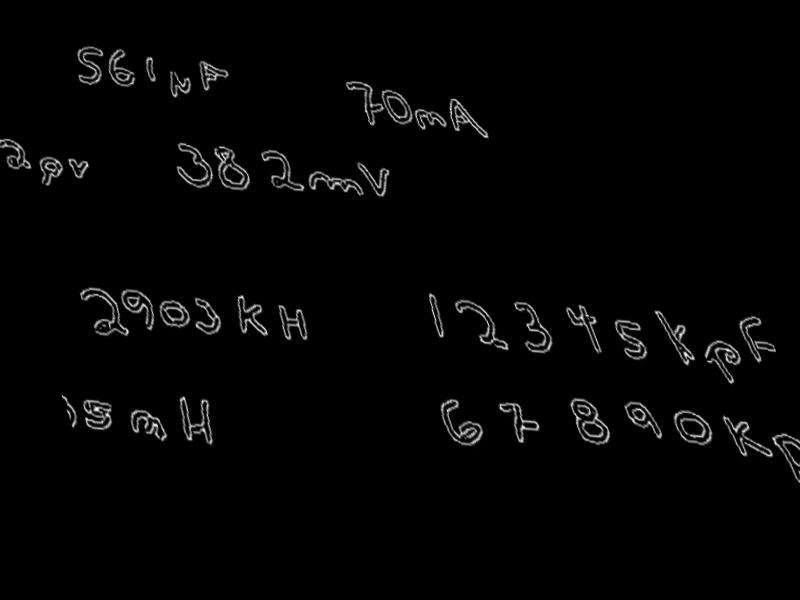0: (665, 406, 719, 447), (150, 294, 198, 331), (377, 87, 419, 128)
1: (420, 290, 454, 341), (137, 54, 163, 86)
2: (68, 282, 139, 345), (450, 297, 511, 354), (255, 146, 310, 194), (0, 134, 39, 173)
3: (162, 137, 225, 195), (506, 296, 561, 359), (182, 294, 234, 340), (60, 391, 90, 437), (167, 482, 168, 482)
4: (560, 301, 613, 356), (0, 130, 5, 174)
5: (63, 42, 117, 88), (609, 315, 657, 363), (73, 395, 123, 434)
6: (432, 396, 490, 450), (97, 45, 143, 90)
7: (494, 397, 550, 448), (339, 77, 392, 128)
8: (561, 394, 619, 450), (204, 141, 259, 194)
9: (112, 283, 166, 333), (619, 396, 669, 445)
A: (441, 96, 492, 141)
F: (732, 312, 781, 367), (190, 56, 238, 96)
H: (169, 393, 225, 448), (269, 302, 316, 345)
V: (354, 160, 402, 201), (63, 155, 98, 181)
k: (649, 306, 702, 366), (719, 412, 779, 463), (227, 291, 275, 338)
m: (300, 165, 367, 198)
n: (121, 405, 174, 445), (408, 106, 451, 135)
p: (694, 334, 756, 390), (766, 430, 800, 490), (30, 152, 74, 189)
u: (161, 67, 200, 101)
